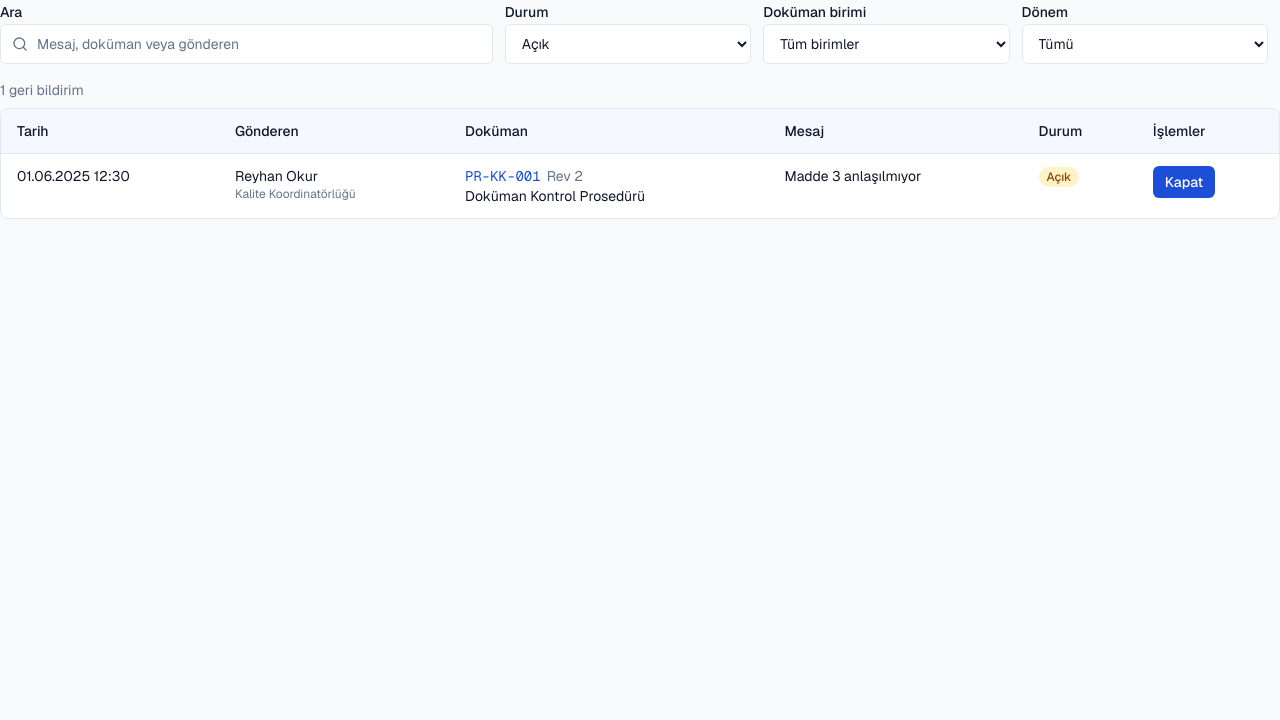
Scenario: FeedbackList › closing › asks for an optional note, shows what is being closed, and sends the trimmed note
The width and height of the screenshot is (1280, 720).
Expected: the table named "Geri bildirimler" is shown, [1,109,1279,218]
Click the button "Kapat": point(1184, 182) [1153,166,1215,198]
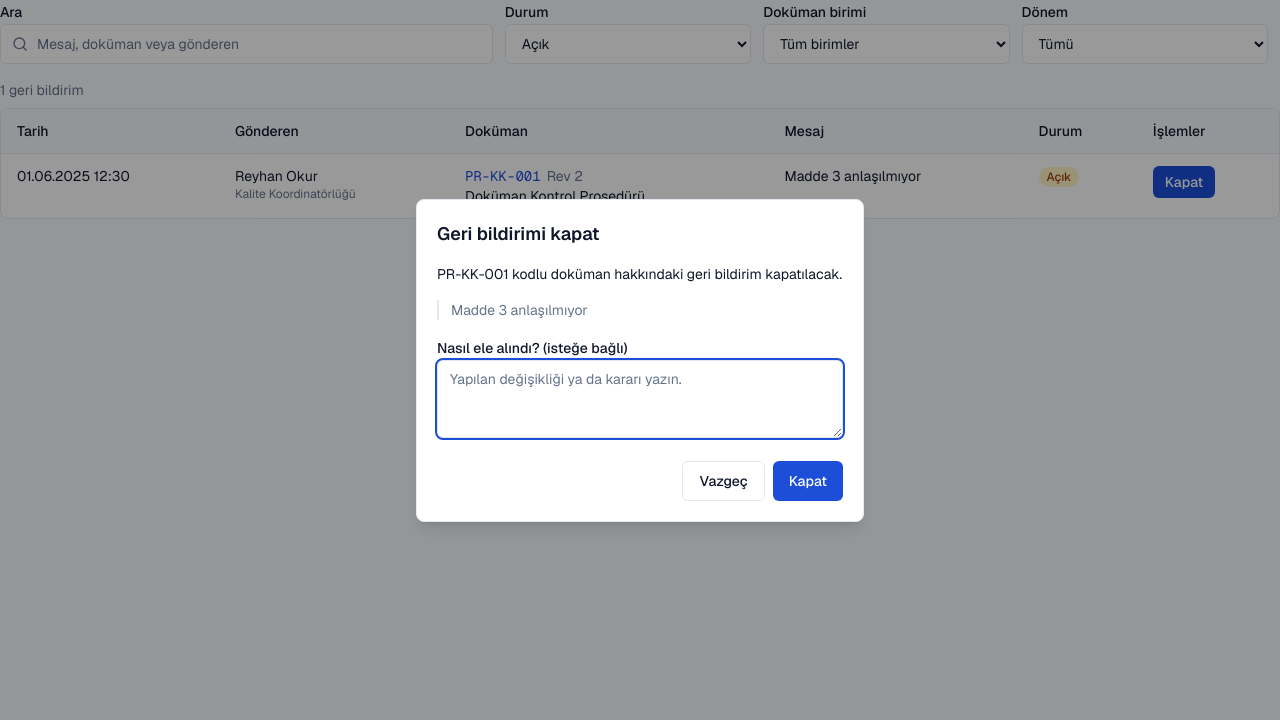
Expected: the text "Madde 3 anlaşılmıyor" is shown, [437,300,843,320]
In the text box labelled "Nasıl ele alındı? (isteğe bağlı)": point(640, 398) [437,360,843,438], type "  Madde 3 yeniden yazıldı  "
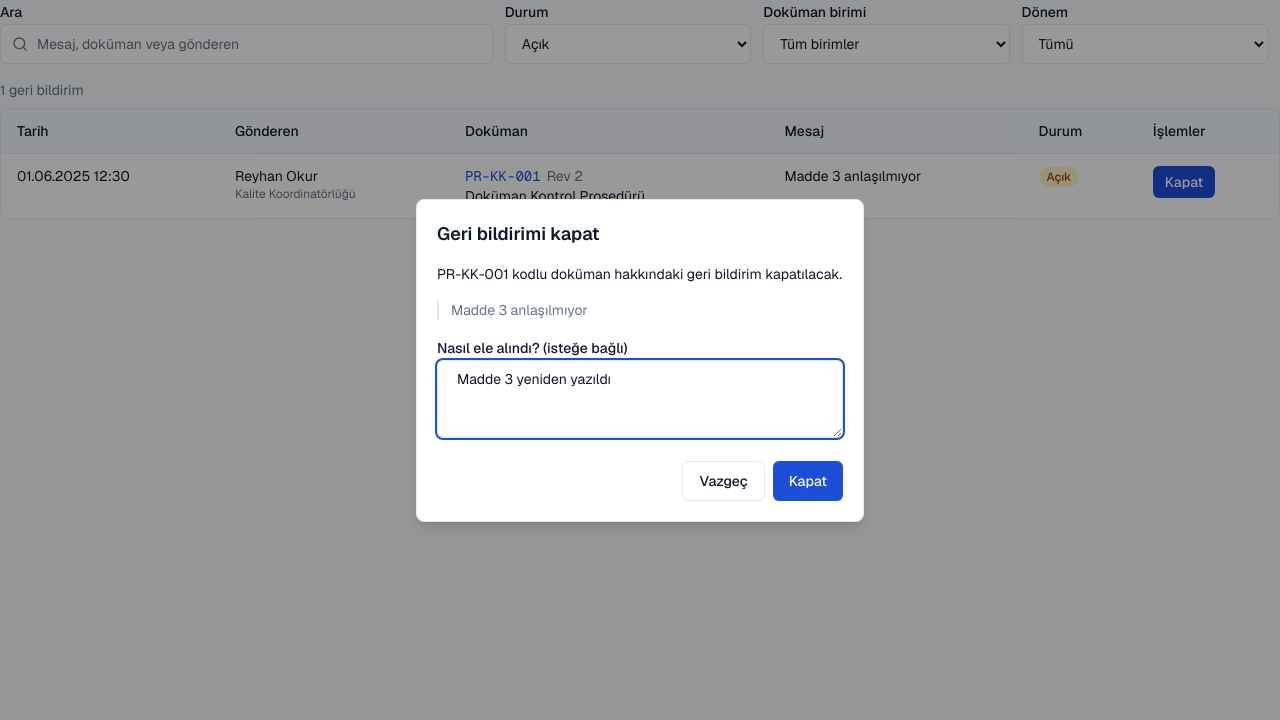
Click the button "Kapat": point(808, 480) [773,460,843,500]
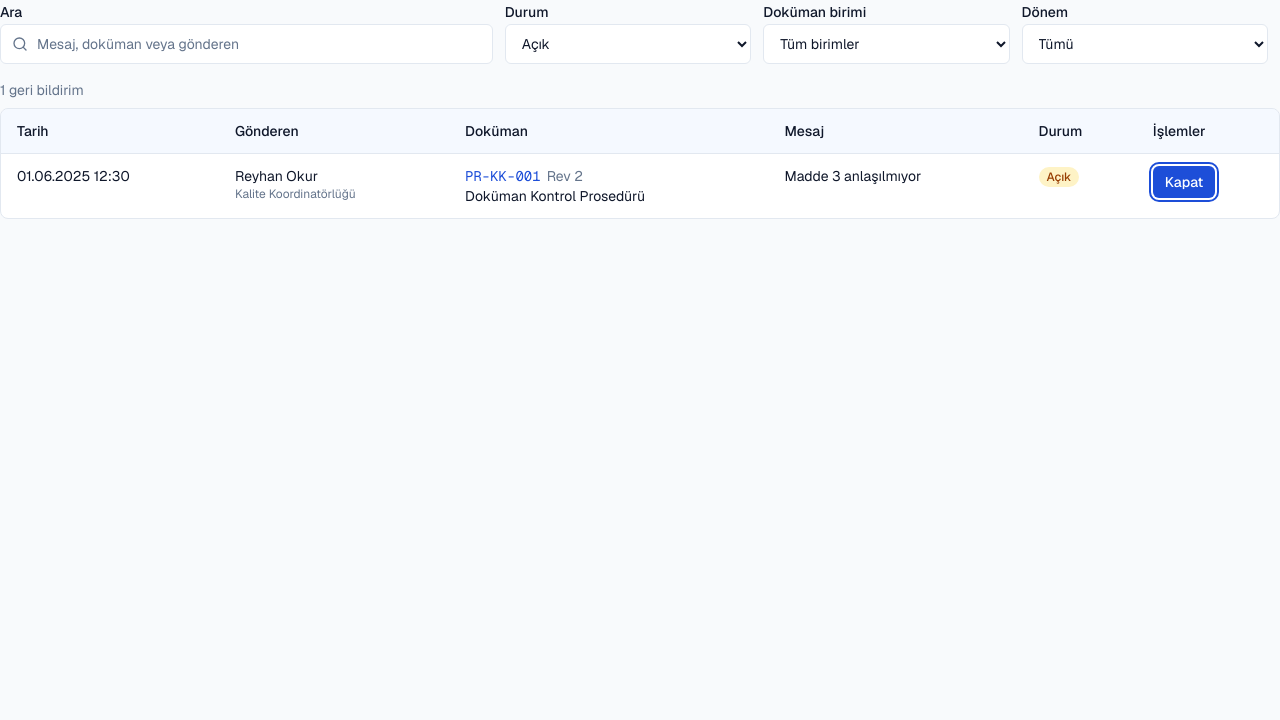
Expected: the dialog is gone
